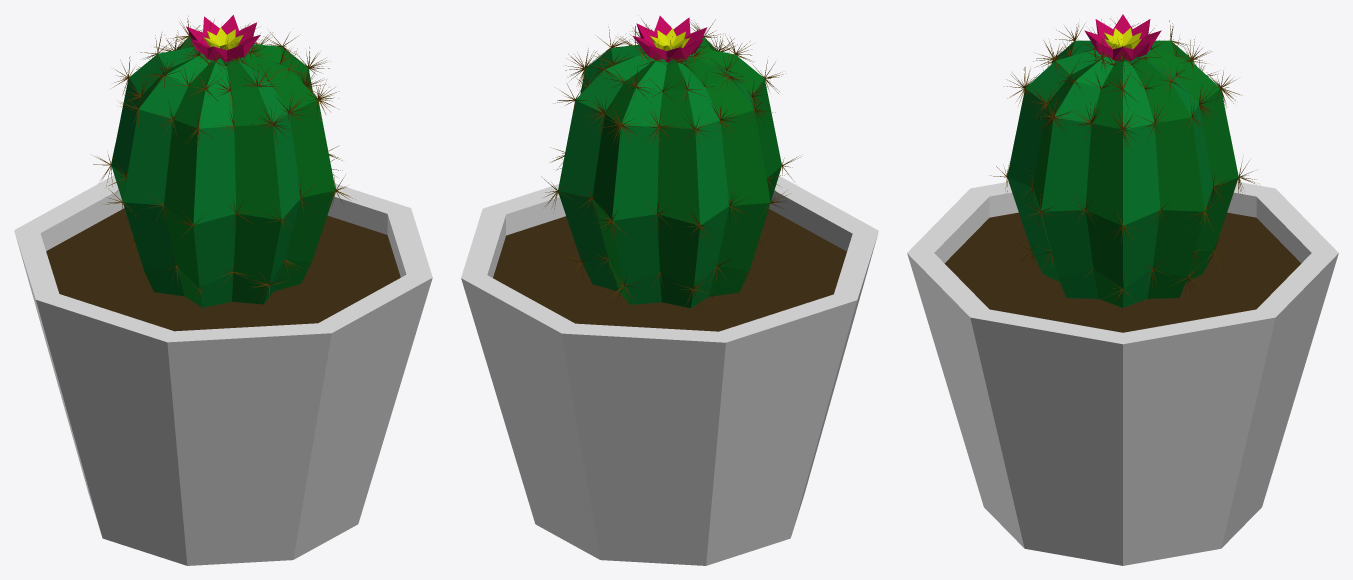
The model's file is cactus.glb.
3 renders of one model, left to right at view 1: azimuth 30°, elevation 25°; view 2: azimuth 150°, elevation 25°; view 3: azimuth 270°, elevation 25°, orthographic.
Visible parts, largest first — view 1: Cylinder.001, Cylinder, Cylinder.002, Cylinder.003; view 2: Cylinder.001, Cylinder, Cylinder.002, Cylinder.003; view 3: Cylinder.001, Cylinder, Cylinder.002.
Part boxes in pixels (x1=…): Cylinder.001: x1=14, y1=175, x2=432, y2=565; Cylinder: x1=111, y1=36, x2=335, y2=307; Cylinder.002: x1=186, y1=15, x2=260, y2=61; Cylinder.003: x1=203, y1=27, x2=243, y2=49; Cylinder.001: x1=461, y1=176, x2=878, y2=565; Cylinder: x1=558, y1=37, x2=781, y2=308; Cylinder.002: x1=633, y1=16, x2=707, y2=62; Cylinder.003: x1=650, y1=28, x2=689, y2=50; Cylinder.001: x1=907, y1=182, x2=1338, y2=565; Cylinder: x1=1007, y1=40, x2=1238, y2=307; Cylinder.002: x1=1084, y1=14, x2=1161, y2=61.
Bounding box in the file's own units: 2.87 × 3.52 × 2.87.
